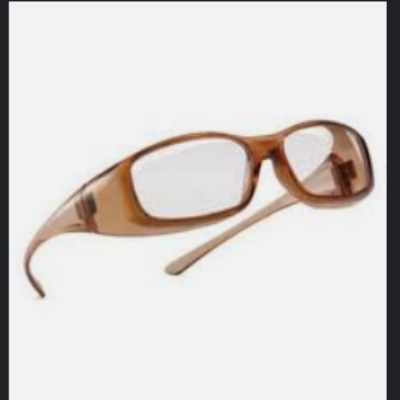glasses: (27, 117, 379, 299)
